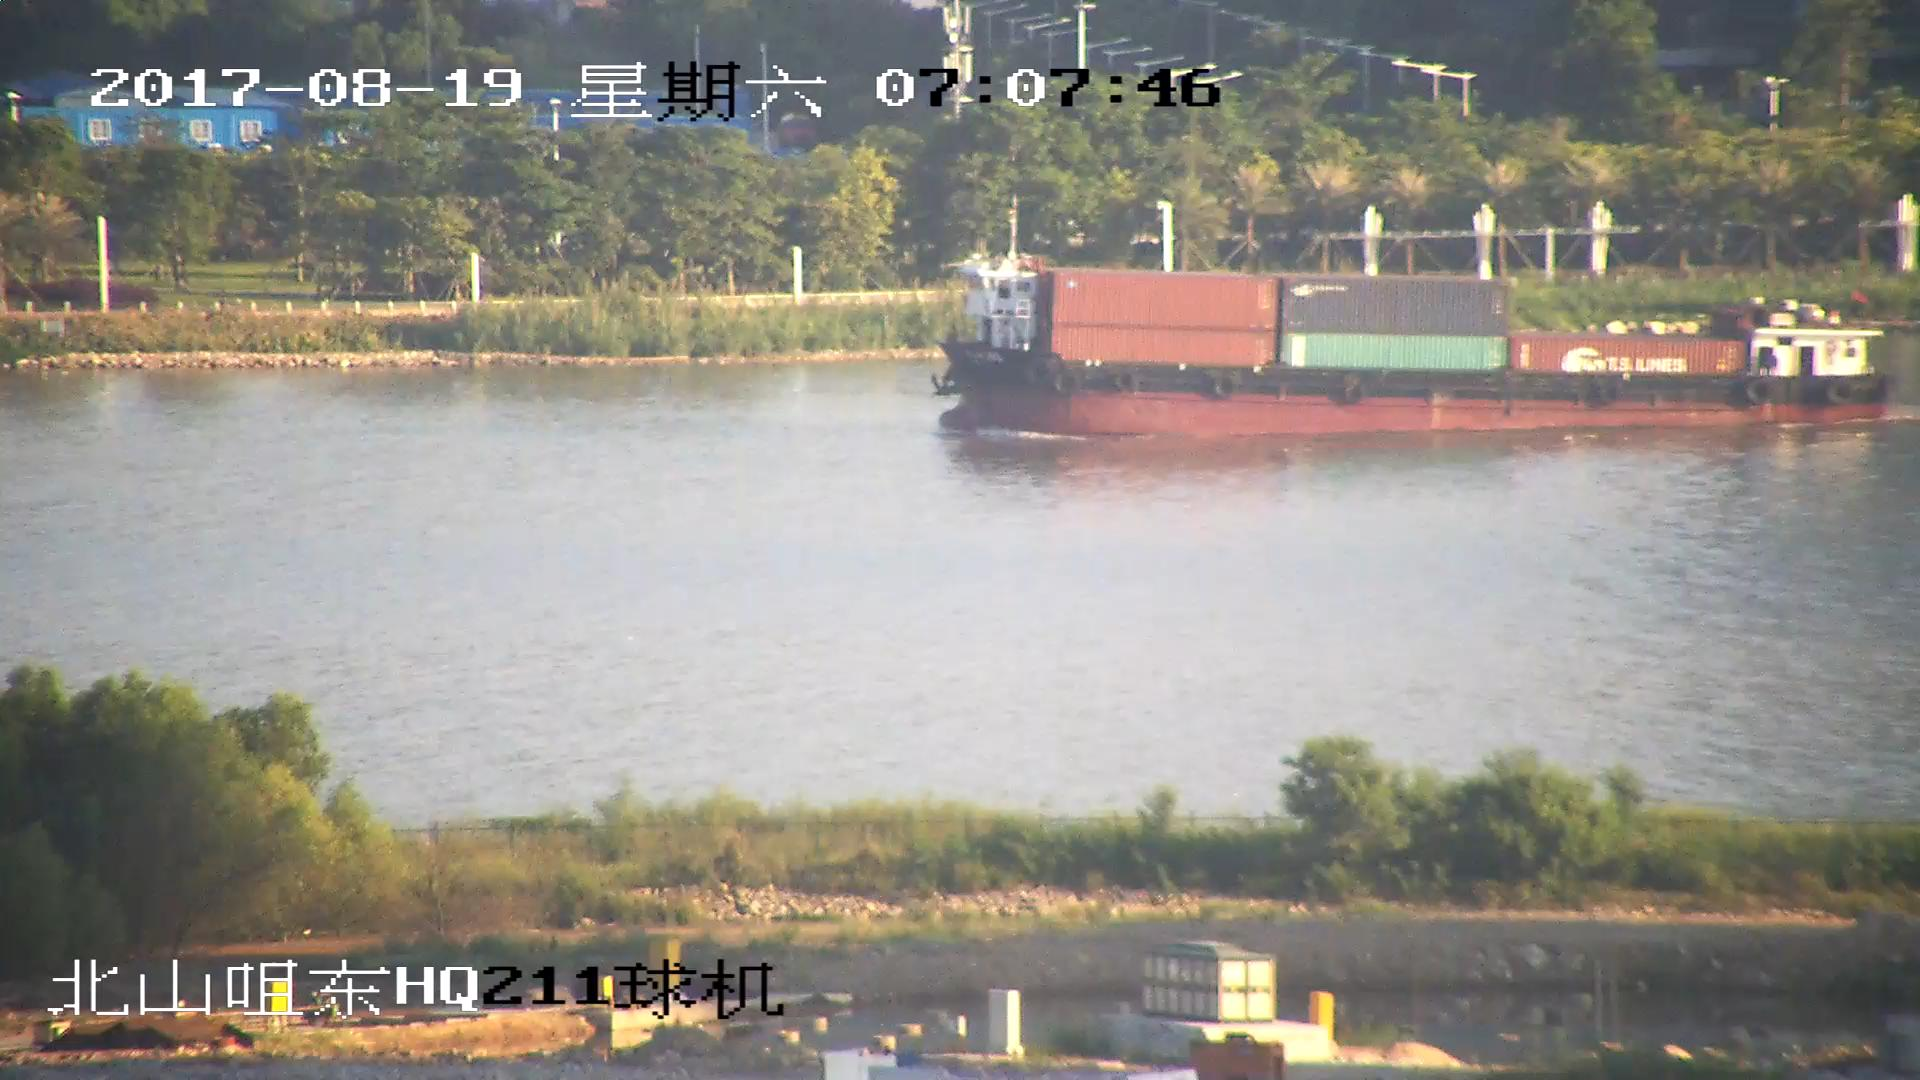container ship: (933, 237, 1888, 437)
